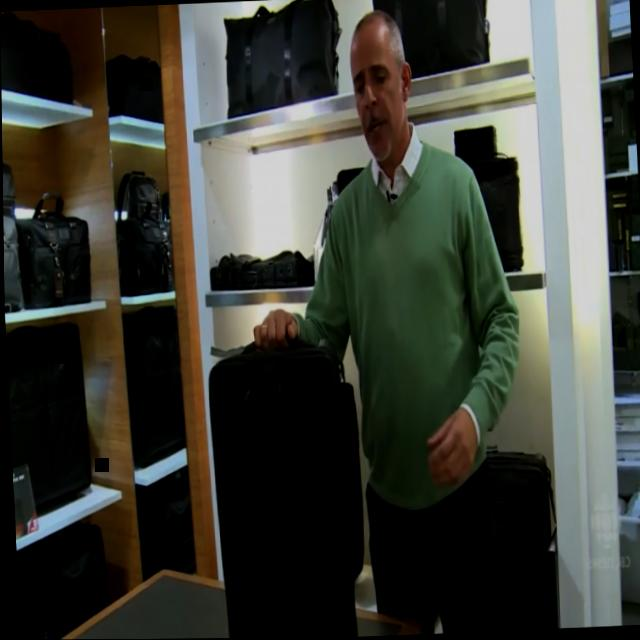luggage: (205, 349, 355, 639), (4, 316, 90, 522), (222, 0, 344, 124), (482, 446, 557, 632), (13, 518, 108, 640), (370, 0, 495, 88), (119, 307, 185, 465), (0, 11, 71, 104), (335, 377, 364, 580), (103, 54, 164, 126)
